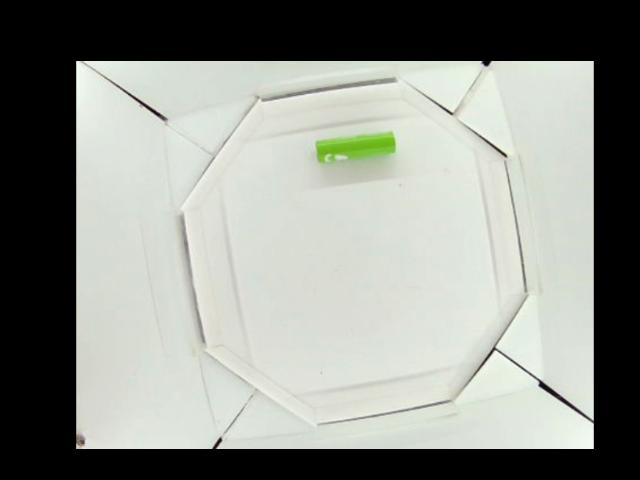Battery: (314, 131, 396, 160)
